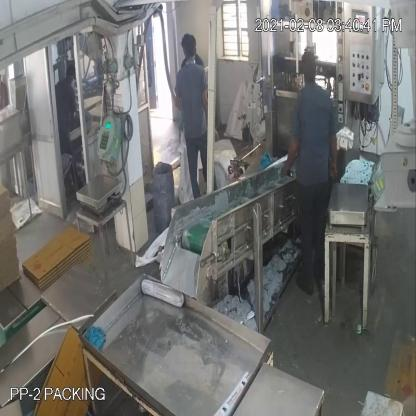no_glove: (321, 116, 338, 183), (279, 131, 300, 182)
